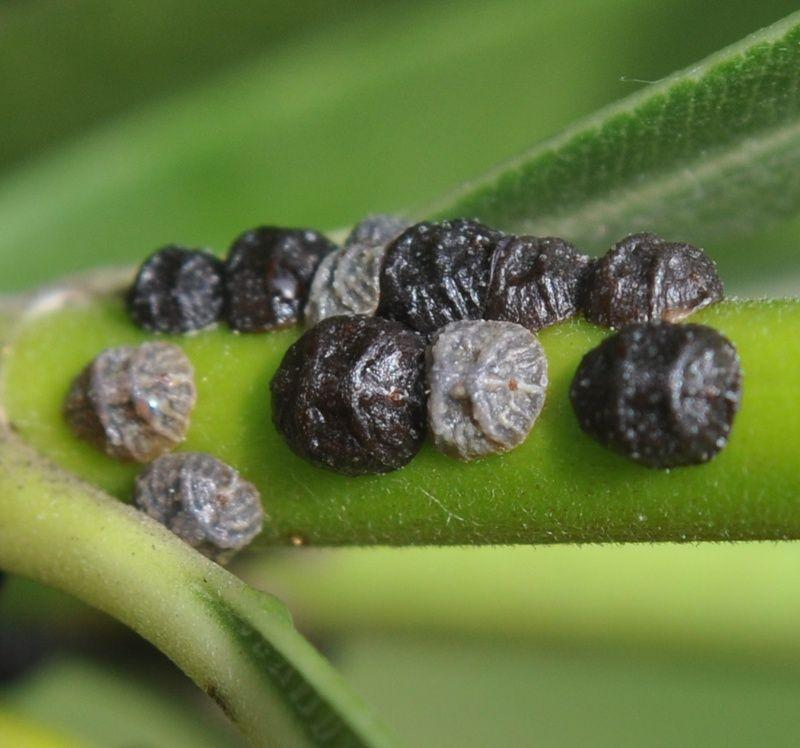BlackScale: (67, 196, 756, 568)
